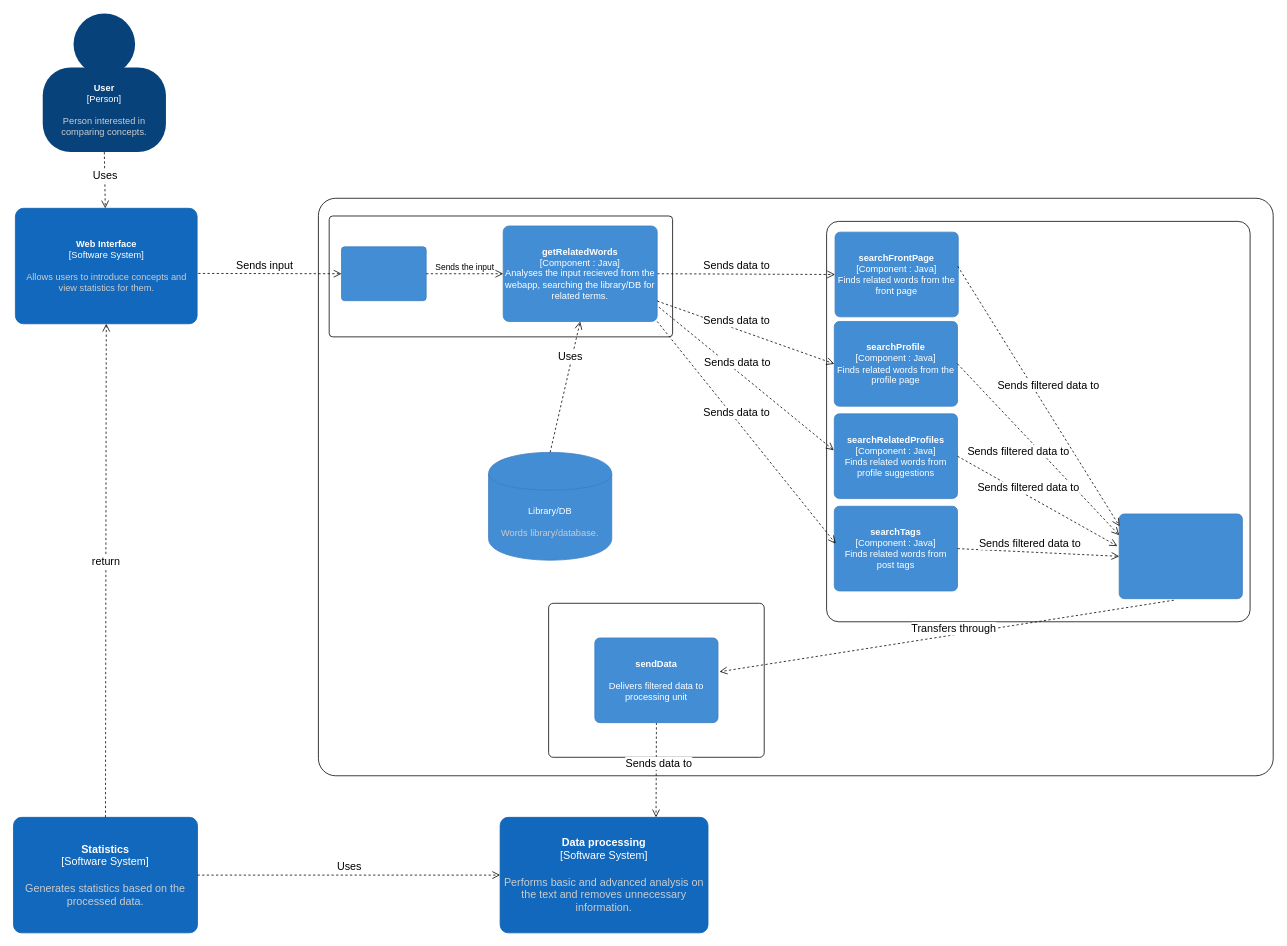
The diagram is 1287 pixels wide and 946 high, and some of its shapes have lost their labels. The shapes that lost their labels are listed below. From the top down, each one's box as (x1, y1, x2, y2) in pixels, then its label:
(341, 246, 426, 301): getInput [Component : Java] Gets the input from the webapp
(328, 215, 673, 337): WordMaker [Container:Java]
(826, 221, 1250, 622): Spider [Container:Java]
(318, 198, 1273, 776): Crawler [Software System]
(1118, 513, 1242, 599): getData [Component : Java] Receives filtered data from the search engine
(548, 603, 764, 757): Courier [Container: Java]
